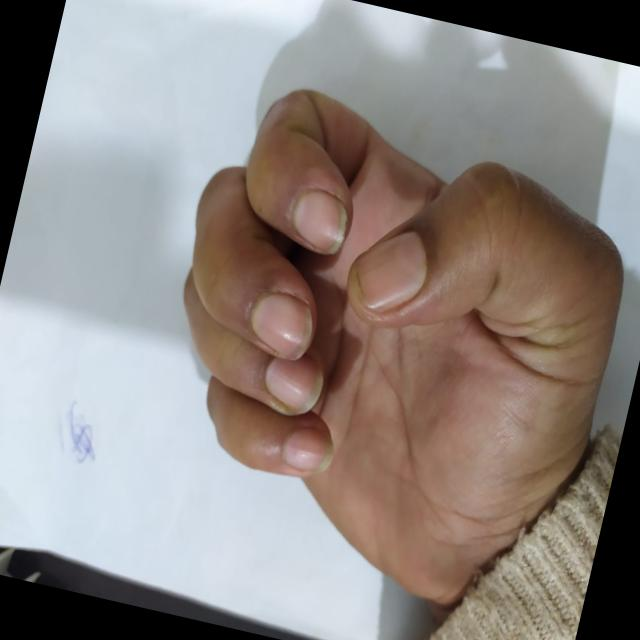Nail: (348, 229, 425, 310), (250, 292, 312, 358), (291, 188, 348, 253), (264, 354, 323, 413), (282, 426, 333, 472)
